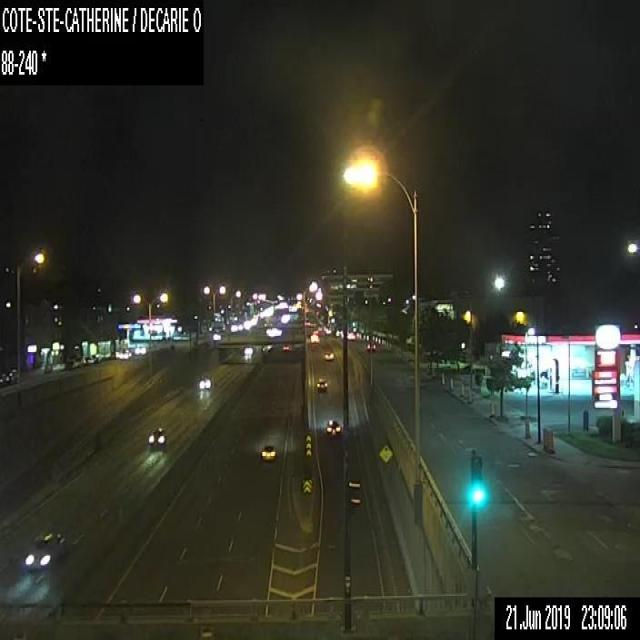vehicle: (24, 530, 65, 572), (147, 424, 166, 448), (260, 442, 276, 462), (324, 419, 341, 437), (0, 367, 15, 385), (197, 373, 211, 388), (314, 377, 327, 392), (324, 348, 334, 359), (282, 342, 290, 352)
